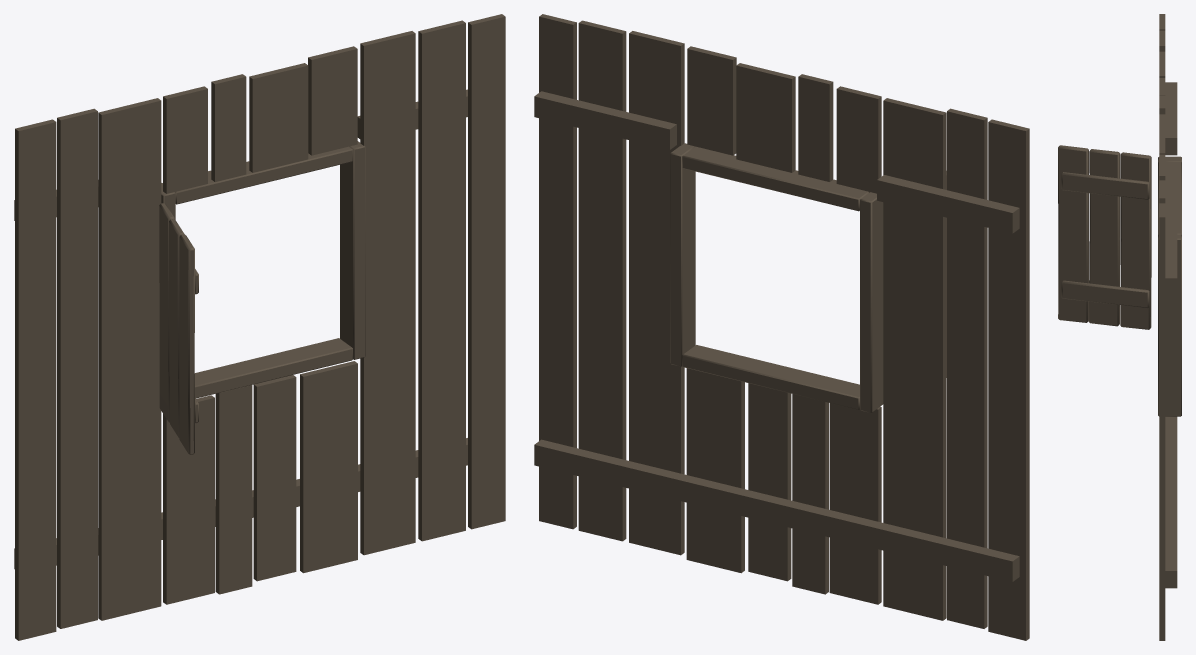
File: bretter_fenster.glb
The picture shows the model from 3 angles, left to right: view 1: azimuth 30°, elevation 25°; view 2: azimuth 150°, elevation 25°; view 3: azimuth 270°, elevation 25°; orthographic projection. The views are drawn at different scales.
Parts seen in each view (by area): view 1: bretter_fenster; view 2: bretter_fenster; view 3: bretter_fenster.
Part boxes in pixels (box(x1,y1,x2,y2)): bretter_fenster: box(14, 14, 505, 640); bretter_fenster: box(534, 14, 1029, 640); bretter_fenster: box(1058, 14, 1181, 640).
Bounding box in the file's own units: 1.98 × 1.99 × 0.5183.
